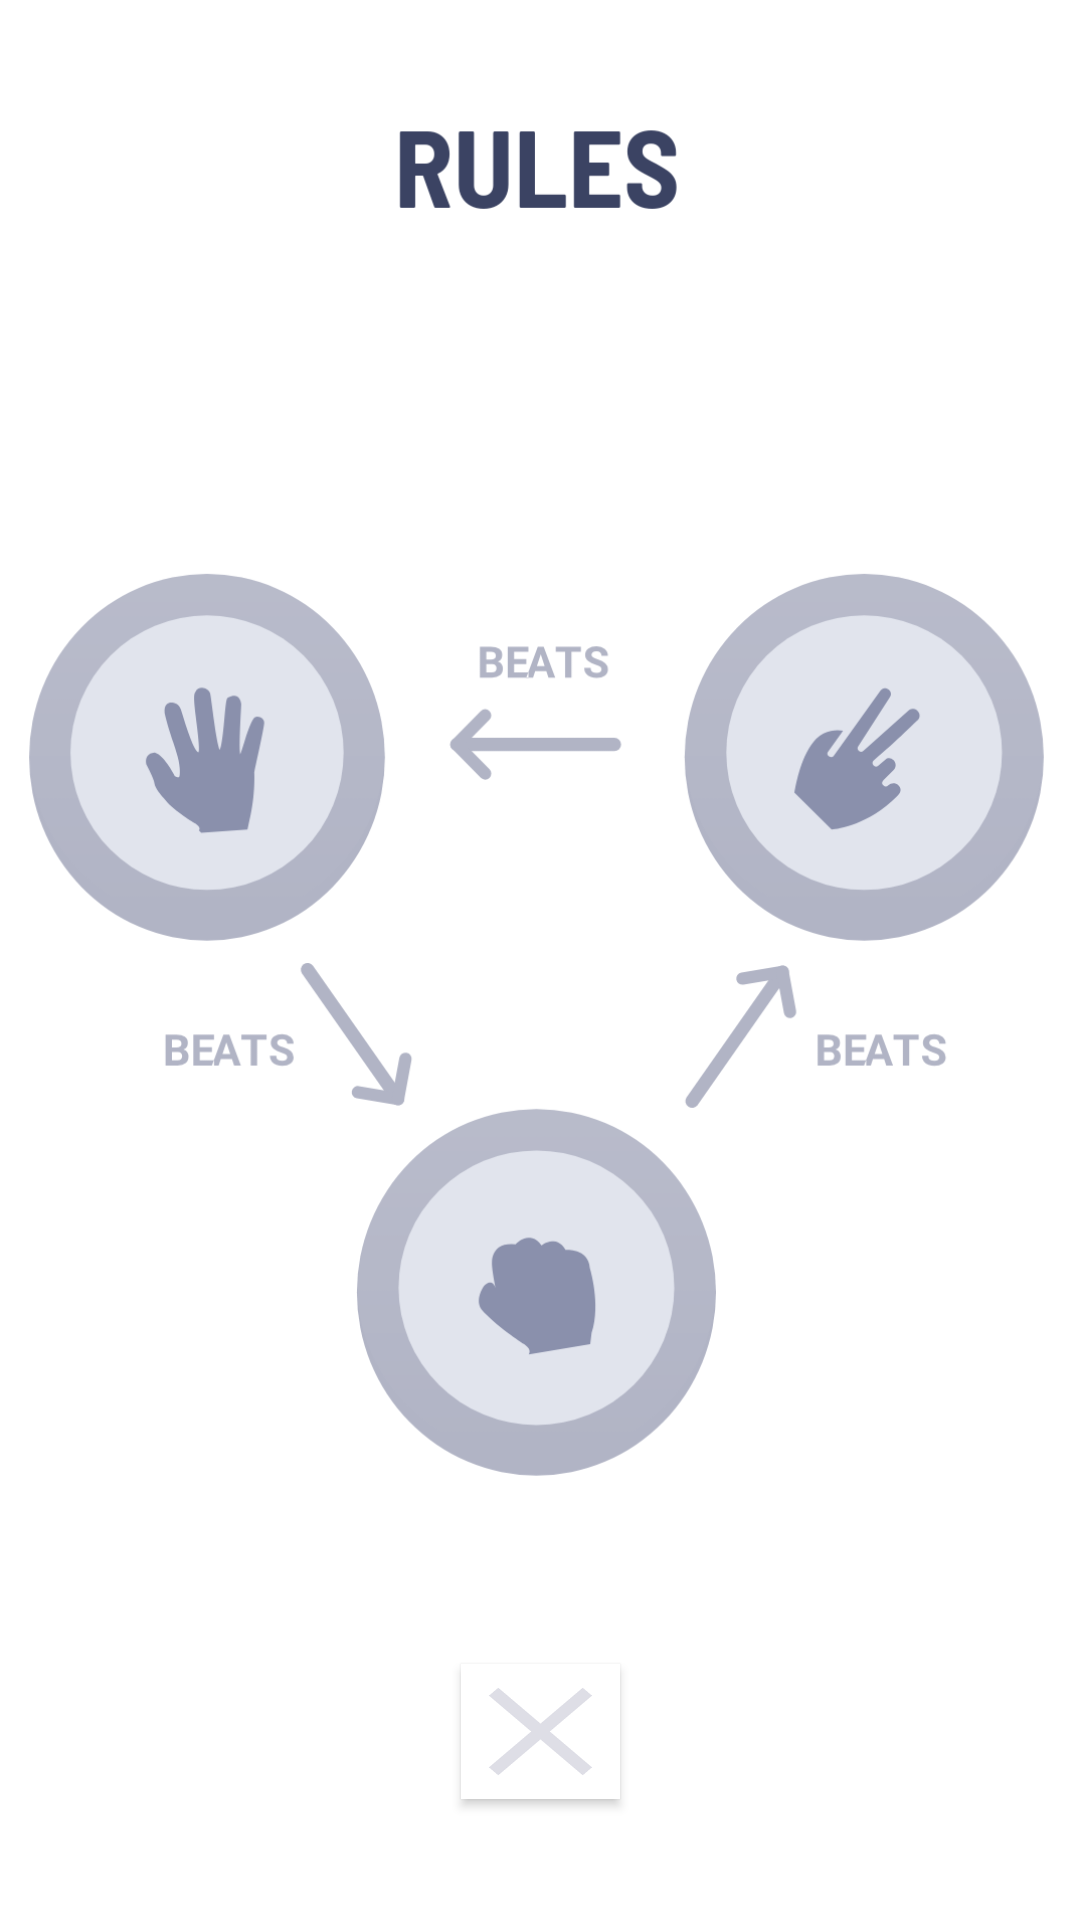

Point at icon controls on the screen. Image size 1080x1920, points as point (x, y).
cross: point (540, 1731)
